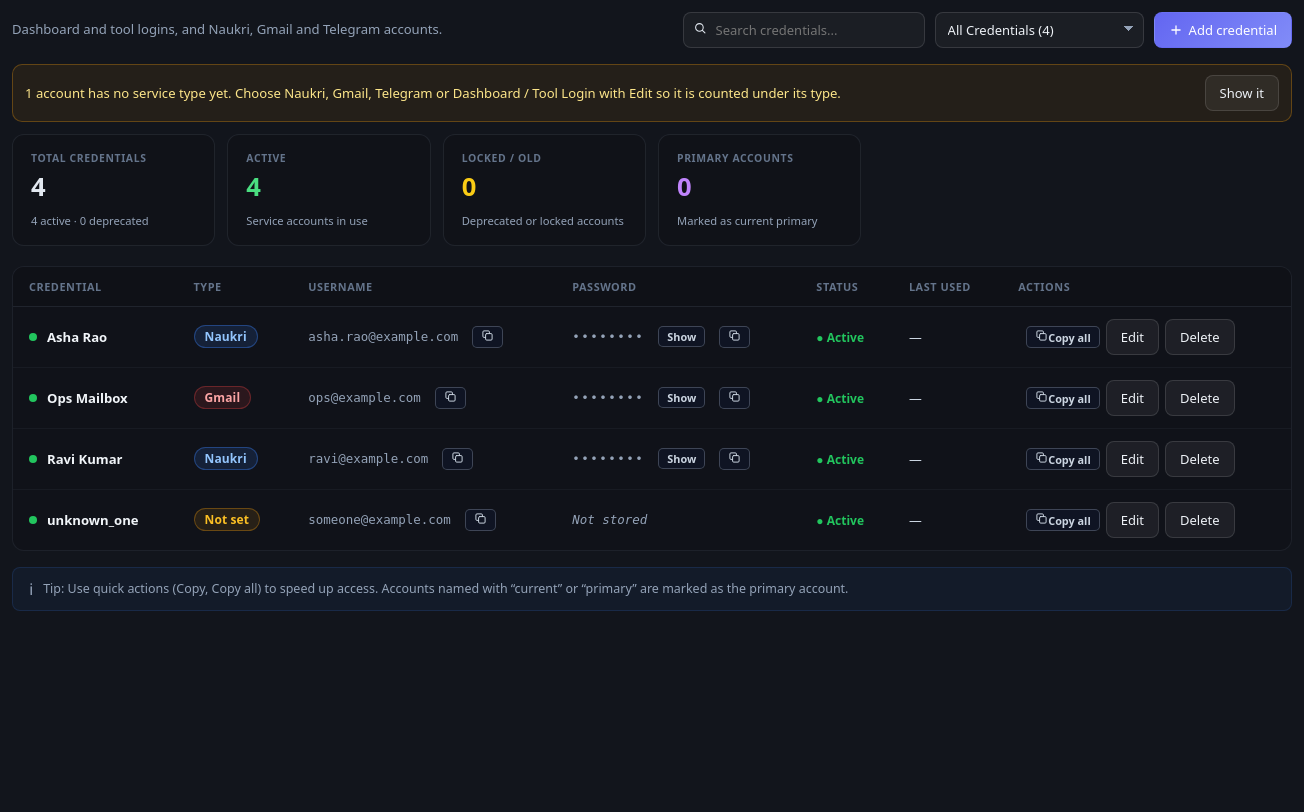
Scenario: the Account type filter › says so when a service has no accounts
The image size is (1304, 812).
Select "Telegram (0)" in the dropdown named "Credential type": (1039, 30) [935,12,1144,48]
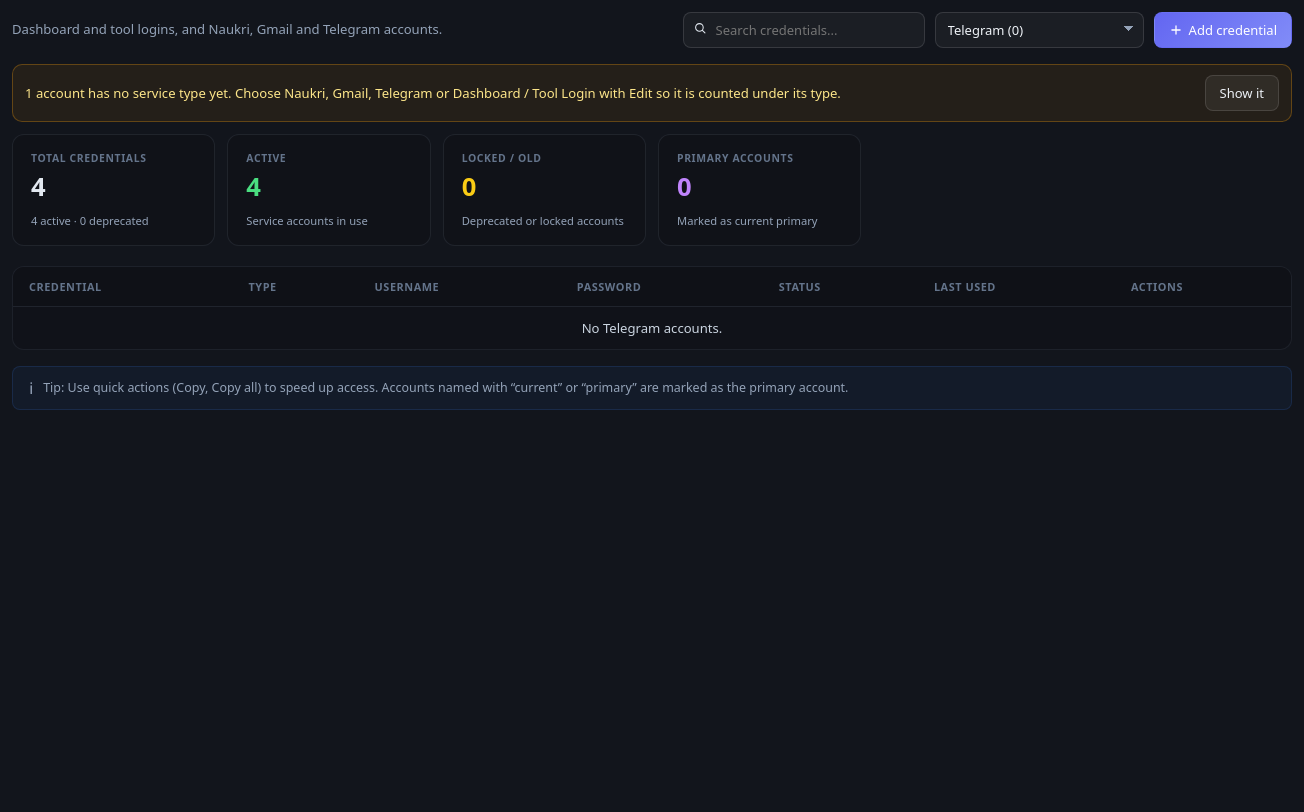
Check: the text "No Telegram accounts." is shown, box [13,306,1291,349]
